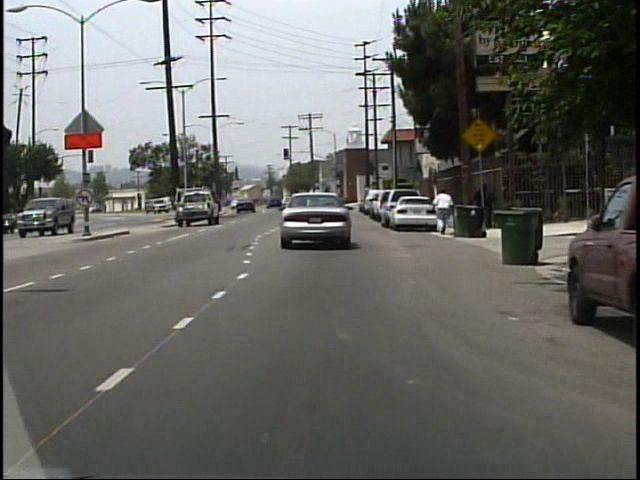person: (432, 187, 455, 237)
